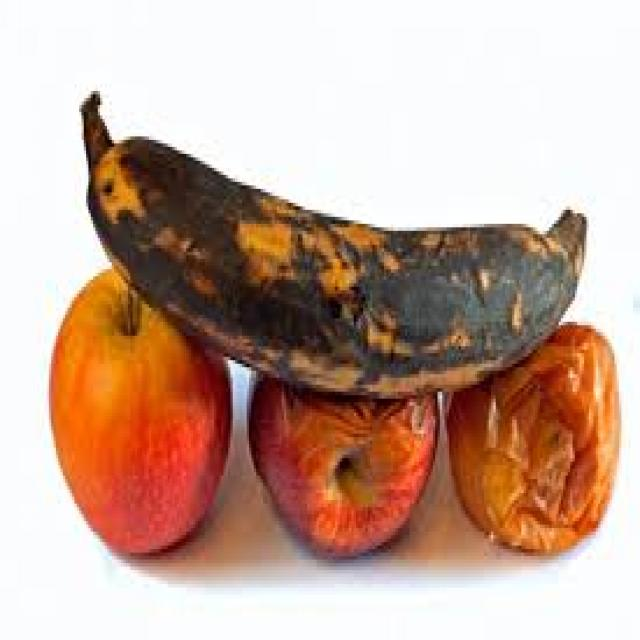organic waste: (77, 88, 584, 388), (46, 262, 232, 556), (440, 318, 617, 556), (245, 364, 438, 563)
